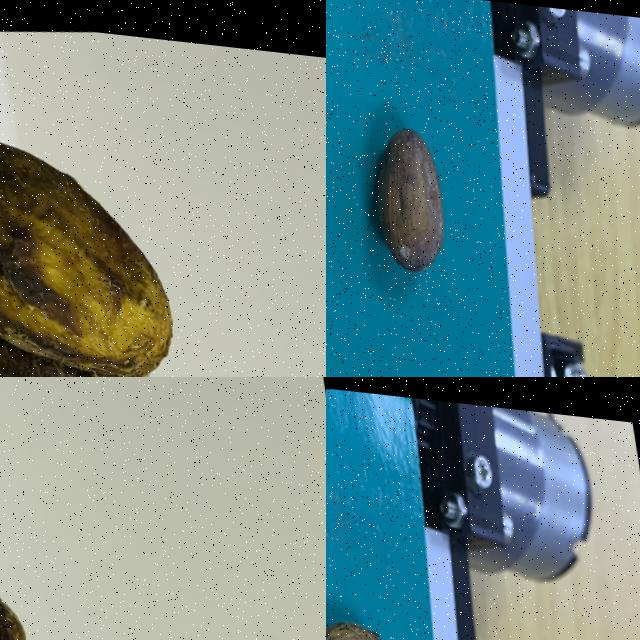Agglomerated_cocoabeans: (0, 17, 258, 376)
Fine_cocoabeans: (326, 64, 510, 376), (326, 510, 444, 639)
